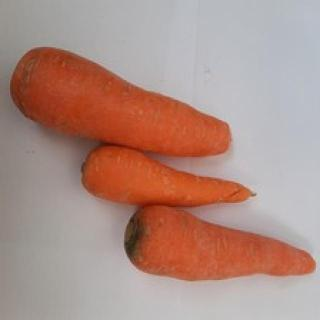carrot: (8, 41, 246, 157), (122, 200, 316, 292), (77, 137, 259, 205)
